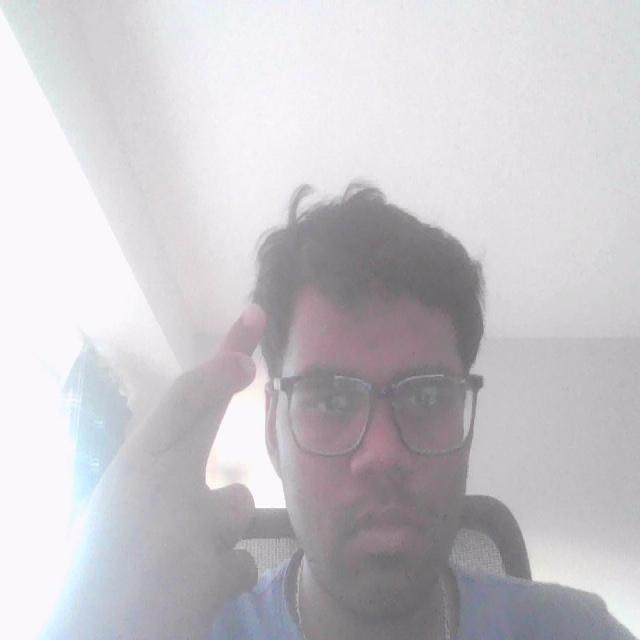No: (71, 292, 279, 640)
